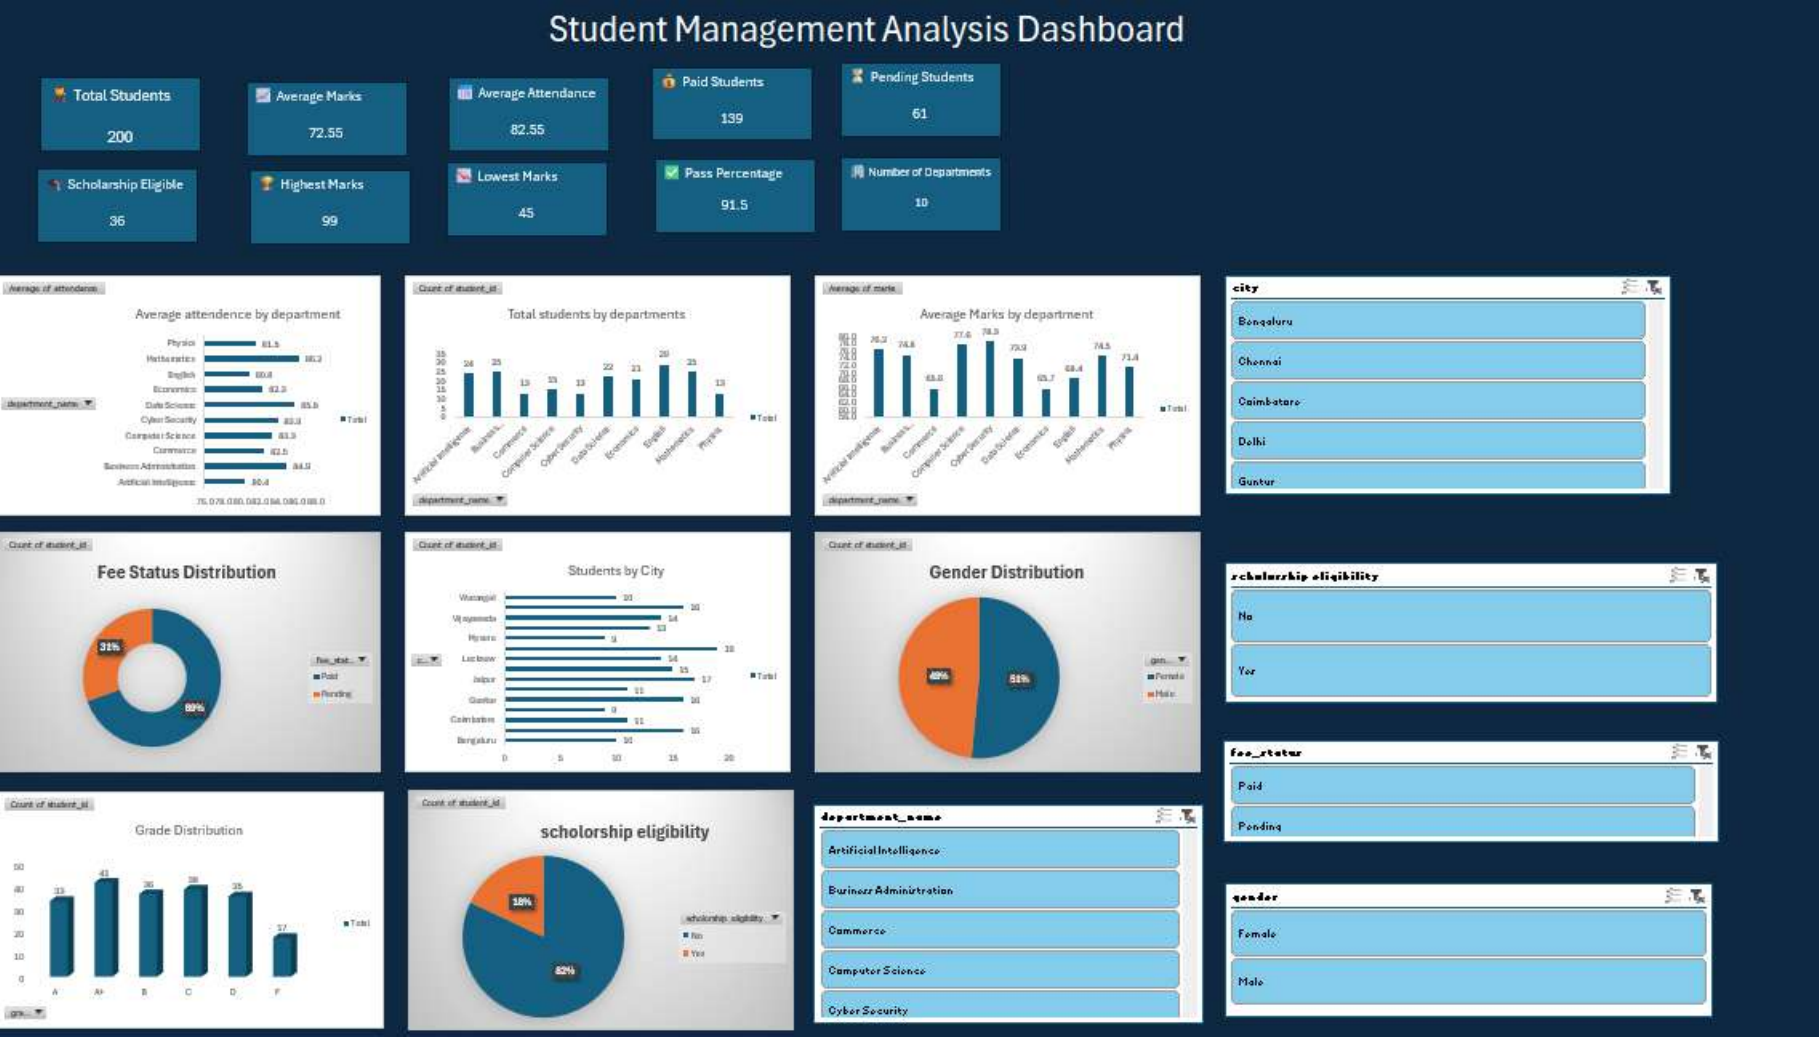

The dashboard page shown, as its layout file describes it:
{"tool":"powerbi","page":{"name":"student management dashboard","canvas":[1280,720],"ordinal":0},"visuals":[{"type":"cardVisual","title":"👨🎓 Total Students","fields":{"Data":["students.Total Students"]},"box":[0,71.2,160.5,96.9],"z":0},{"type":"cardVisual","title":"🏢 Departments","fields":{"Data":["students.Number of Departments"]},"box":[192.6,71.1,159.5,96.3],"z":1000},{"type":"cardVisual","title":"📉 Lowest Marks","fields":{"Data":["students.Lowest Marks"]},"box":[558.7,72.7,166.6,95.4],"z":2000},{"type":"cardVisual","title":"🏆 Highest Marks","fields":{"Data":["students.Highest Marks"]},"box":[0,183.2,174.1,95.4],"z":3000},{"type":"cardVisual","title":"Pass Percentage","fields":{"Data":["students.Pass Percentage"]},"box":[381.6,71.2,160.5,96.9],"z":4000},{"type":"cardVisual","title":"💰 Paid Students","fields":{"Data":["students.Paid Students"]},"box":[735.9,72.7,171.1,93.9],"z":5000},{"type":"cardVisual","title":"⏳ Pending Students","fields":{"Data":["students.Pending Students"]},"box":[922.2,71.2,178.7,95.4],"z":6000},{"type":"cardVisual","title":"🎓 Scholarship Eligible","fields":{"Data":["students.Scholarship Eligible"]},"box":[1111.4,71.2,168.1,95.4],"z":7000},{"type":"clusteredColumnChart","title":"Grade Distribution","fields":{"Category":["students.Grade"],"Y":["CountNonNull(students.student_id)"]},"box":[216.3,195.8,270,164.2],"z":8000},{"type":"pieChart","title":"Gender Distribution","fields":{"Category":["students.gender"],"Y":["CountNonNull(students.student_id)"]},"box":[505.3,195.8,268.4,164.2],"z":9000},{"type":"donutChart","title":"Fee Status","fields":{"Category":["students.fee_status"],"Y":["CountNonNull(students.student_id)"]},"box":[787.9,195.8,238.4,164.2],"z":10000},{"type":"pieChart","title":"Scholarship Eligibility","fields":{"Category":["students.scholorship eligibility"],"Y":["CountNonNull(students.student_id)"]},"box":[1045.3,195.8,235.3,164.2],"z":11000},{"type":"barChart","title":"Students by City","fields":{"Category":["students.city"],"Y":["CountNonNull(students.student_id)"]},"box":[216.3,399.5,270,150],"z":12000},{"type":"cardVisual","title":"📅 Average Attendance","fields":{"Data":["students.Average attendance"]},"box":[0,298.3,174.1,87.8],"z":13000},{"type":"cardVisual","title":"📈 Average Marks","fields":{"Data":["students.Average marks"]},"box":[0,399.8,174.1,93.9],"z":14000},{"type":"clusteredBarChart","title":"Average Attendance by department","fields":{"Category":["students.department_name"],"Y":["students.Average attendance"]},"box":[505.3,396.3,268.4,150],"z":15000},{"type":"clusteredColumnChart","title":"Average Marks by department","fields":{"Category":["students.department_name"],"Y":["students.Average marks"]},"box":[788,396,238,150],"z":16000},{"type":"slicer","fields":{"Values":["students.department_name"]},"box":[0,568.4,273.2,151.6],"z":17000},{"type":"slicer","fields":{"Values":["students.gender"]},"box":[290.5,568.4,236.8,151.6],"z":18000},{"type":"slicer","fields":{"Values":["students.city"]},"box":[538.4,568.4,235.3,151.6],"z":19000},{"type":"slicer","fields":{"Values":["students.fee_status"]},"box":[791.1,568.4,235.3,151.6],"z":20000},{"type":"slicer","fields":{"Values":["students.scholorship eligibility"]},"box":[1045.3,568.4,235.3,150],"z":21000},{"type":"treemap","title":"Students by department","fields":{"Group":["students.department_name"],"Values":["CountNonNull(students.student_id)"]},"box":[1045,396,235,150],"z":22000},{"type":"textbox","box":[99.5,0,1064.2,55.3],"z":23000},{"type":"textbox","box":[0,505.3,161.1,44.2],"z":24000}]}

Visuals, with their boxes in screenshot pixels (x1, y1, x2, y2), scaled from the page's 1280x720 canvas onto the 1819x1037 screenshot:
"👨🎓 Total Students" cardVisual: select_region(0, 103, 228, 242)
"🏢 Departments" cardVisual: select_region(274, 102, 500, 241)
"📉 Lowest Marks" cardVisual: select_region(794, 105, 1031, 242)
"🏆 Highest Marks" cardVisual: select_region(0, 264, 247, 401)
"Pass Percentage" cardVisual: select_region(542, 103, 770, 242)
"💰 Paid Students" cardVisual: select_region(1046, 105, 1289, 240)
"⏳ Pending Students" cardVisual: select_region(1311, 103, 1564, 240)
"🎓 Scholarship Eligible" cardVisual: select_region(1579, 103, 1818, 240)
"Grade Distribution" clusteredColumnChart: select_region(307, 282, 691, 518)
"Gender Distribution" pieChart: select_region(718, 282, 1100, 518)
"Fee Status" donutChart: select_region(1120, 282, 1458, 518)
"Scholarship Eligibility" pieChart: select_region(1485, 282, 1818, 518)
"Students by City" barChart: select_region(307, 575, 691, 791)
"📅 Average Attendance" cardVisual: select_region(0, 430, 247, 556)
"📈 Average Marks" cardVisual: select_region(0, 576, 247, 711)
"Average Attendance by department" clusteredBarChart: select_region(718, 571, 1100, 787)
"Average Marks by department" clusteredColumnChart: select_region(1120, 570, 1458, 786)
slicer - students.department_name: select_region(0, 819, 388, 1036)
slicer - students.gender: select_region(413, 819, 749, 1036)
slicer - students.city: select_region(765, 819, 1100, 1036)
slicer - students.fee_status: select_region(1124, 819, 1459, 1036)
slicer - students.scholorship eligibility: select_region(1485, 819, 1818, 1035)
"Students by department" treemap: select_region(1485, 570, 1818, 786)
textbox: select_region(141, 0, 1654, 80)
textbox: select_region(0, 728, 229, 791)
